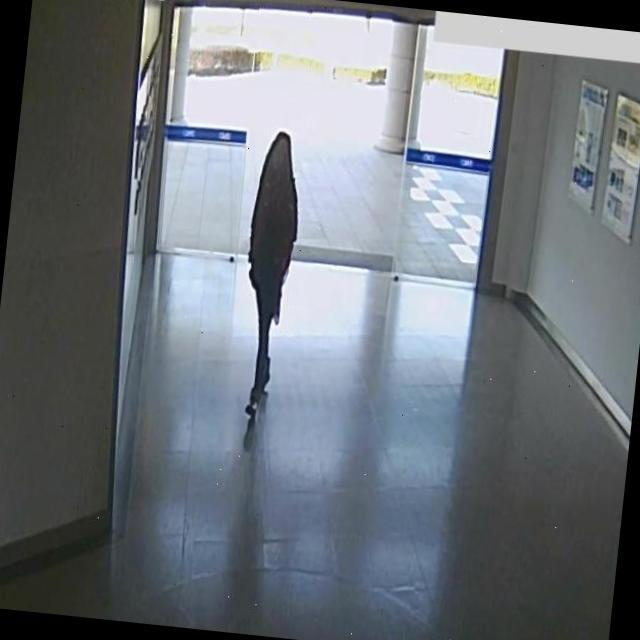person: (220, 122, 318, 441)
